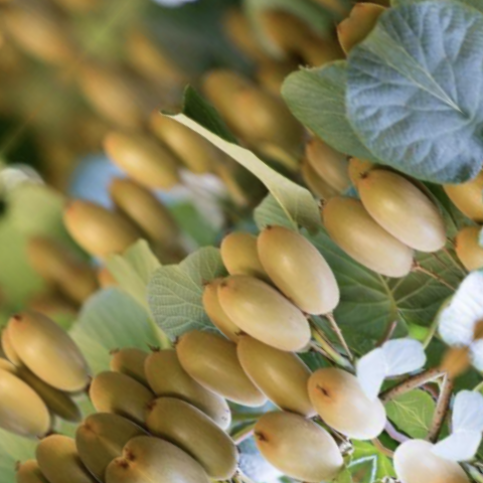kiwi: (225, 204, 380, 349), (300, 174, 439, 306), (111, 365, 264, 483), (208, 252, 338, 376), (337, 147, 468, 270), (0, 293, 114, 414), (230, 385, 359, 483)
